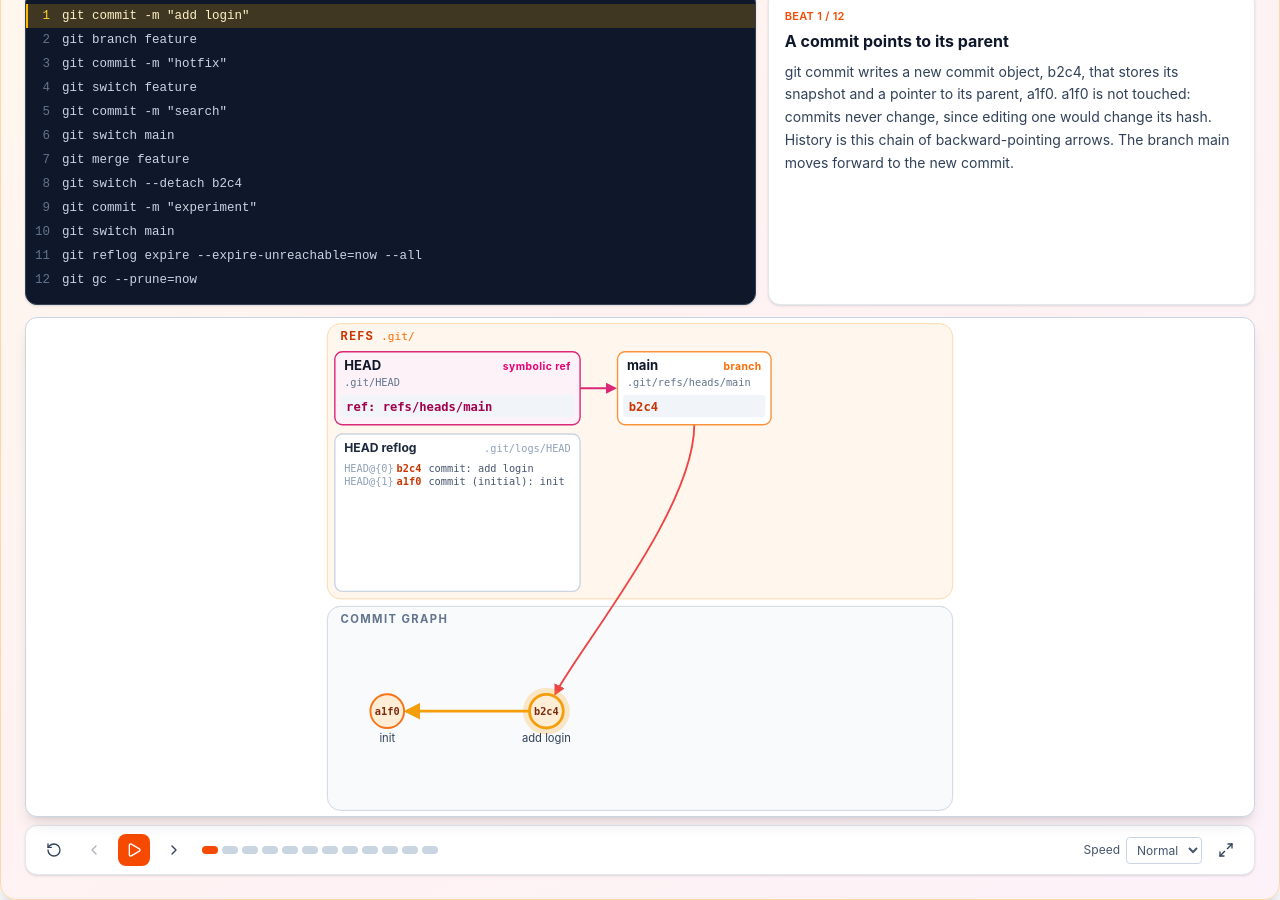
it: BranchPointersStory › starts in 2D on beat 1 and steps forward and back
This screenshot has width=1280, height=900.
(page scrolled)
Expected: the button named "Previous beat" is disabled, top-left (78, 834), bottom-right (110, 866)
Click the button named "Next beat".
click(174, 850)  # box top-left (158, 834), bottom-right (190, 866)
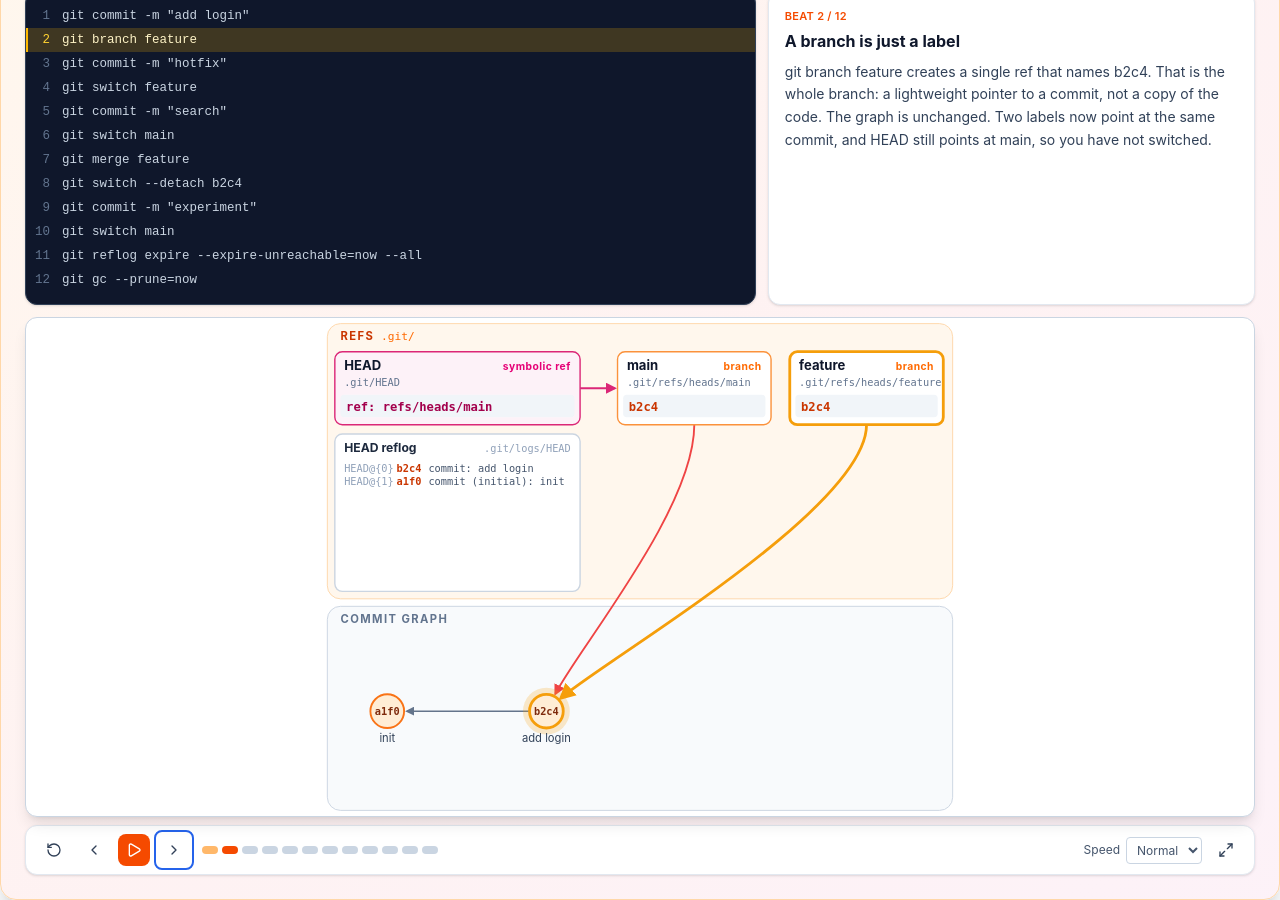
Now the picture named "A branch is just a label" is shown, box top-left (26, 318), bottom-right (1254, 816)
Click the button named "Previous beat".
click(94, 850)  # box top-left (78, 834), bottom-right (110, 866)
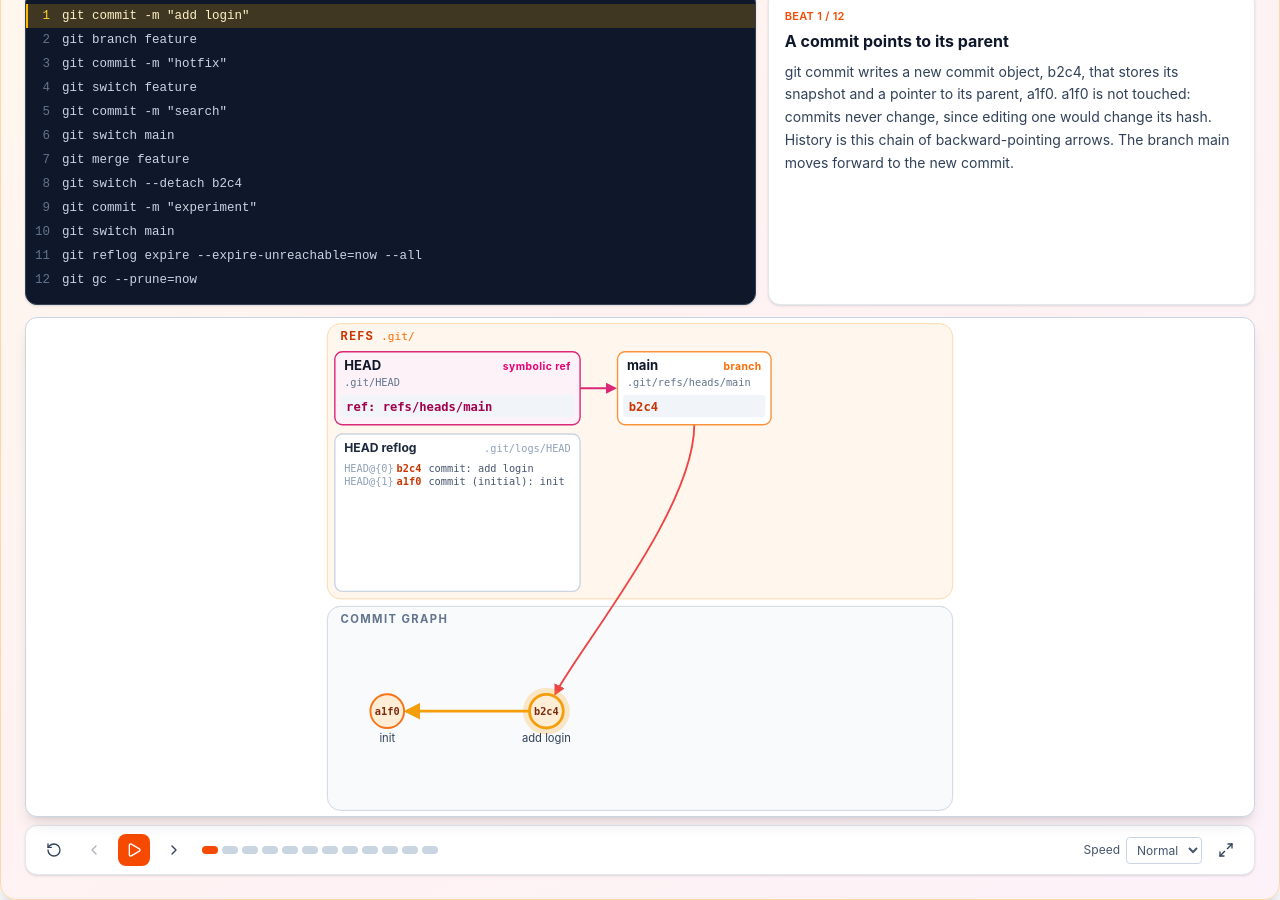
Now the picture named "A commit points to its parent" is shown, box top-left (26, 318), bottom-right (1254, 816)
